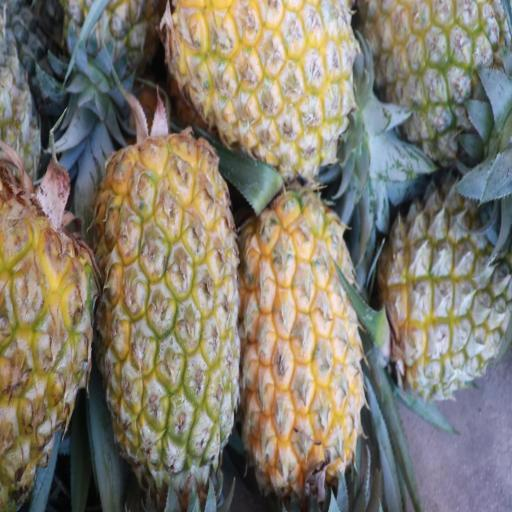------------------------------: (377, 188, 512, 395)
Pineapple - v8 v1: (110, 143, 238, 475), (239, 202, 361, 495), (0, 191, 101, 507), (170, 0, 353, 171), (366, 0, 511, 159)
